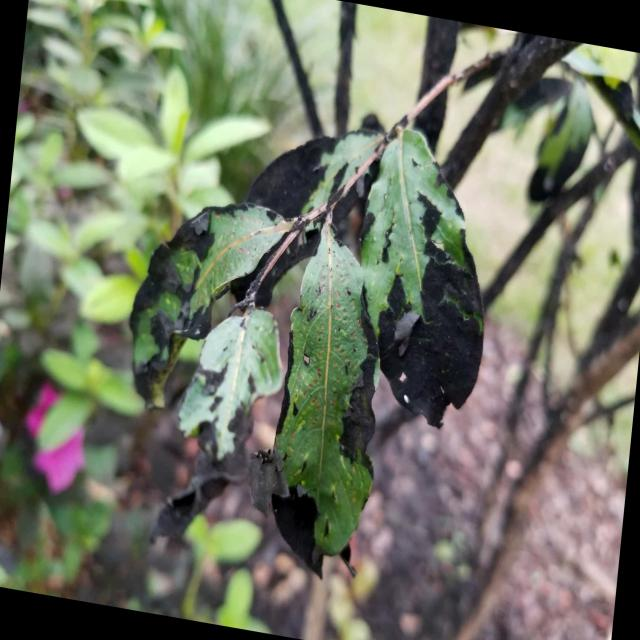Sooty Mold: (129, 120, 486, 580)
